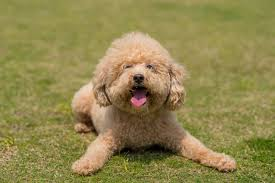Bulldog: (57, 36, 243, 175)
